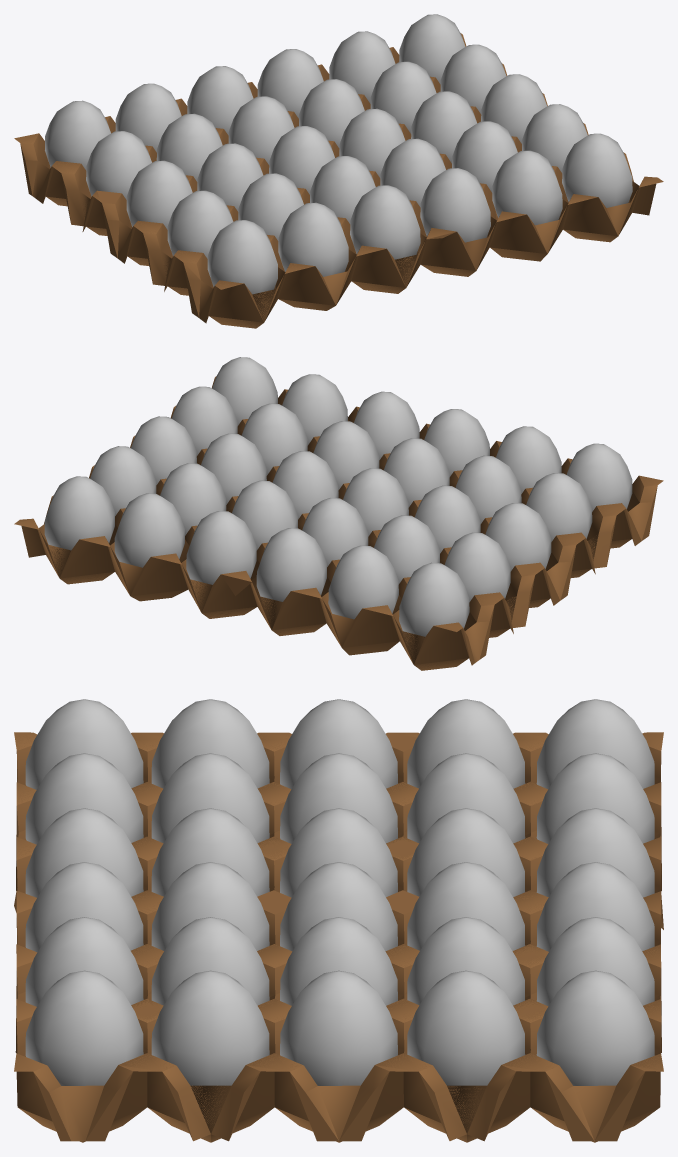
The model's file is Eggs Crate.fbx.
3 renders of one model, top to bottom at view 1: azimuth 30°, elevation 25°; view 2: azimuth 150°, elevation 25°; view 3: azimuth 270°, elevation 25°, orthographic. The views are drawn at different scales.
Parts seen in each view (by area): view 1: Egg_Crate; view 2: Egg_Crate; view 3: Egg_Crate.
Part boxes in pixels (x1,y1,x2,y2): Egg_Crate: (14, 14, 663, 328); Egg_Crate: (14, 357, 663, 670); Egg_Crate: (14, 699, 663, 1142).
Size of the model in its own units: 69.89 by 14.96 by 56.59.
